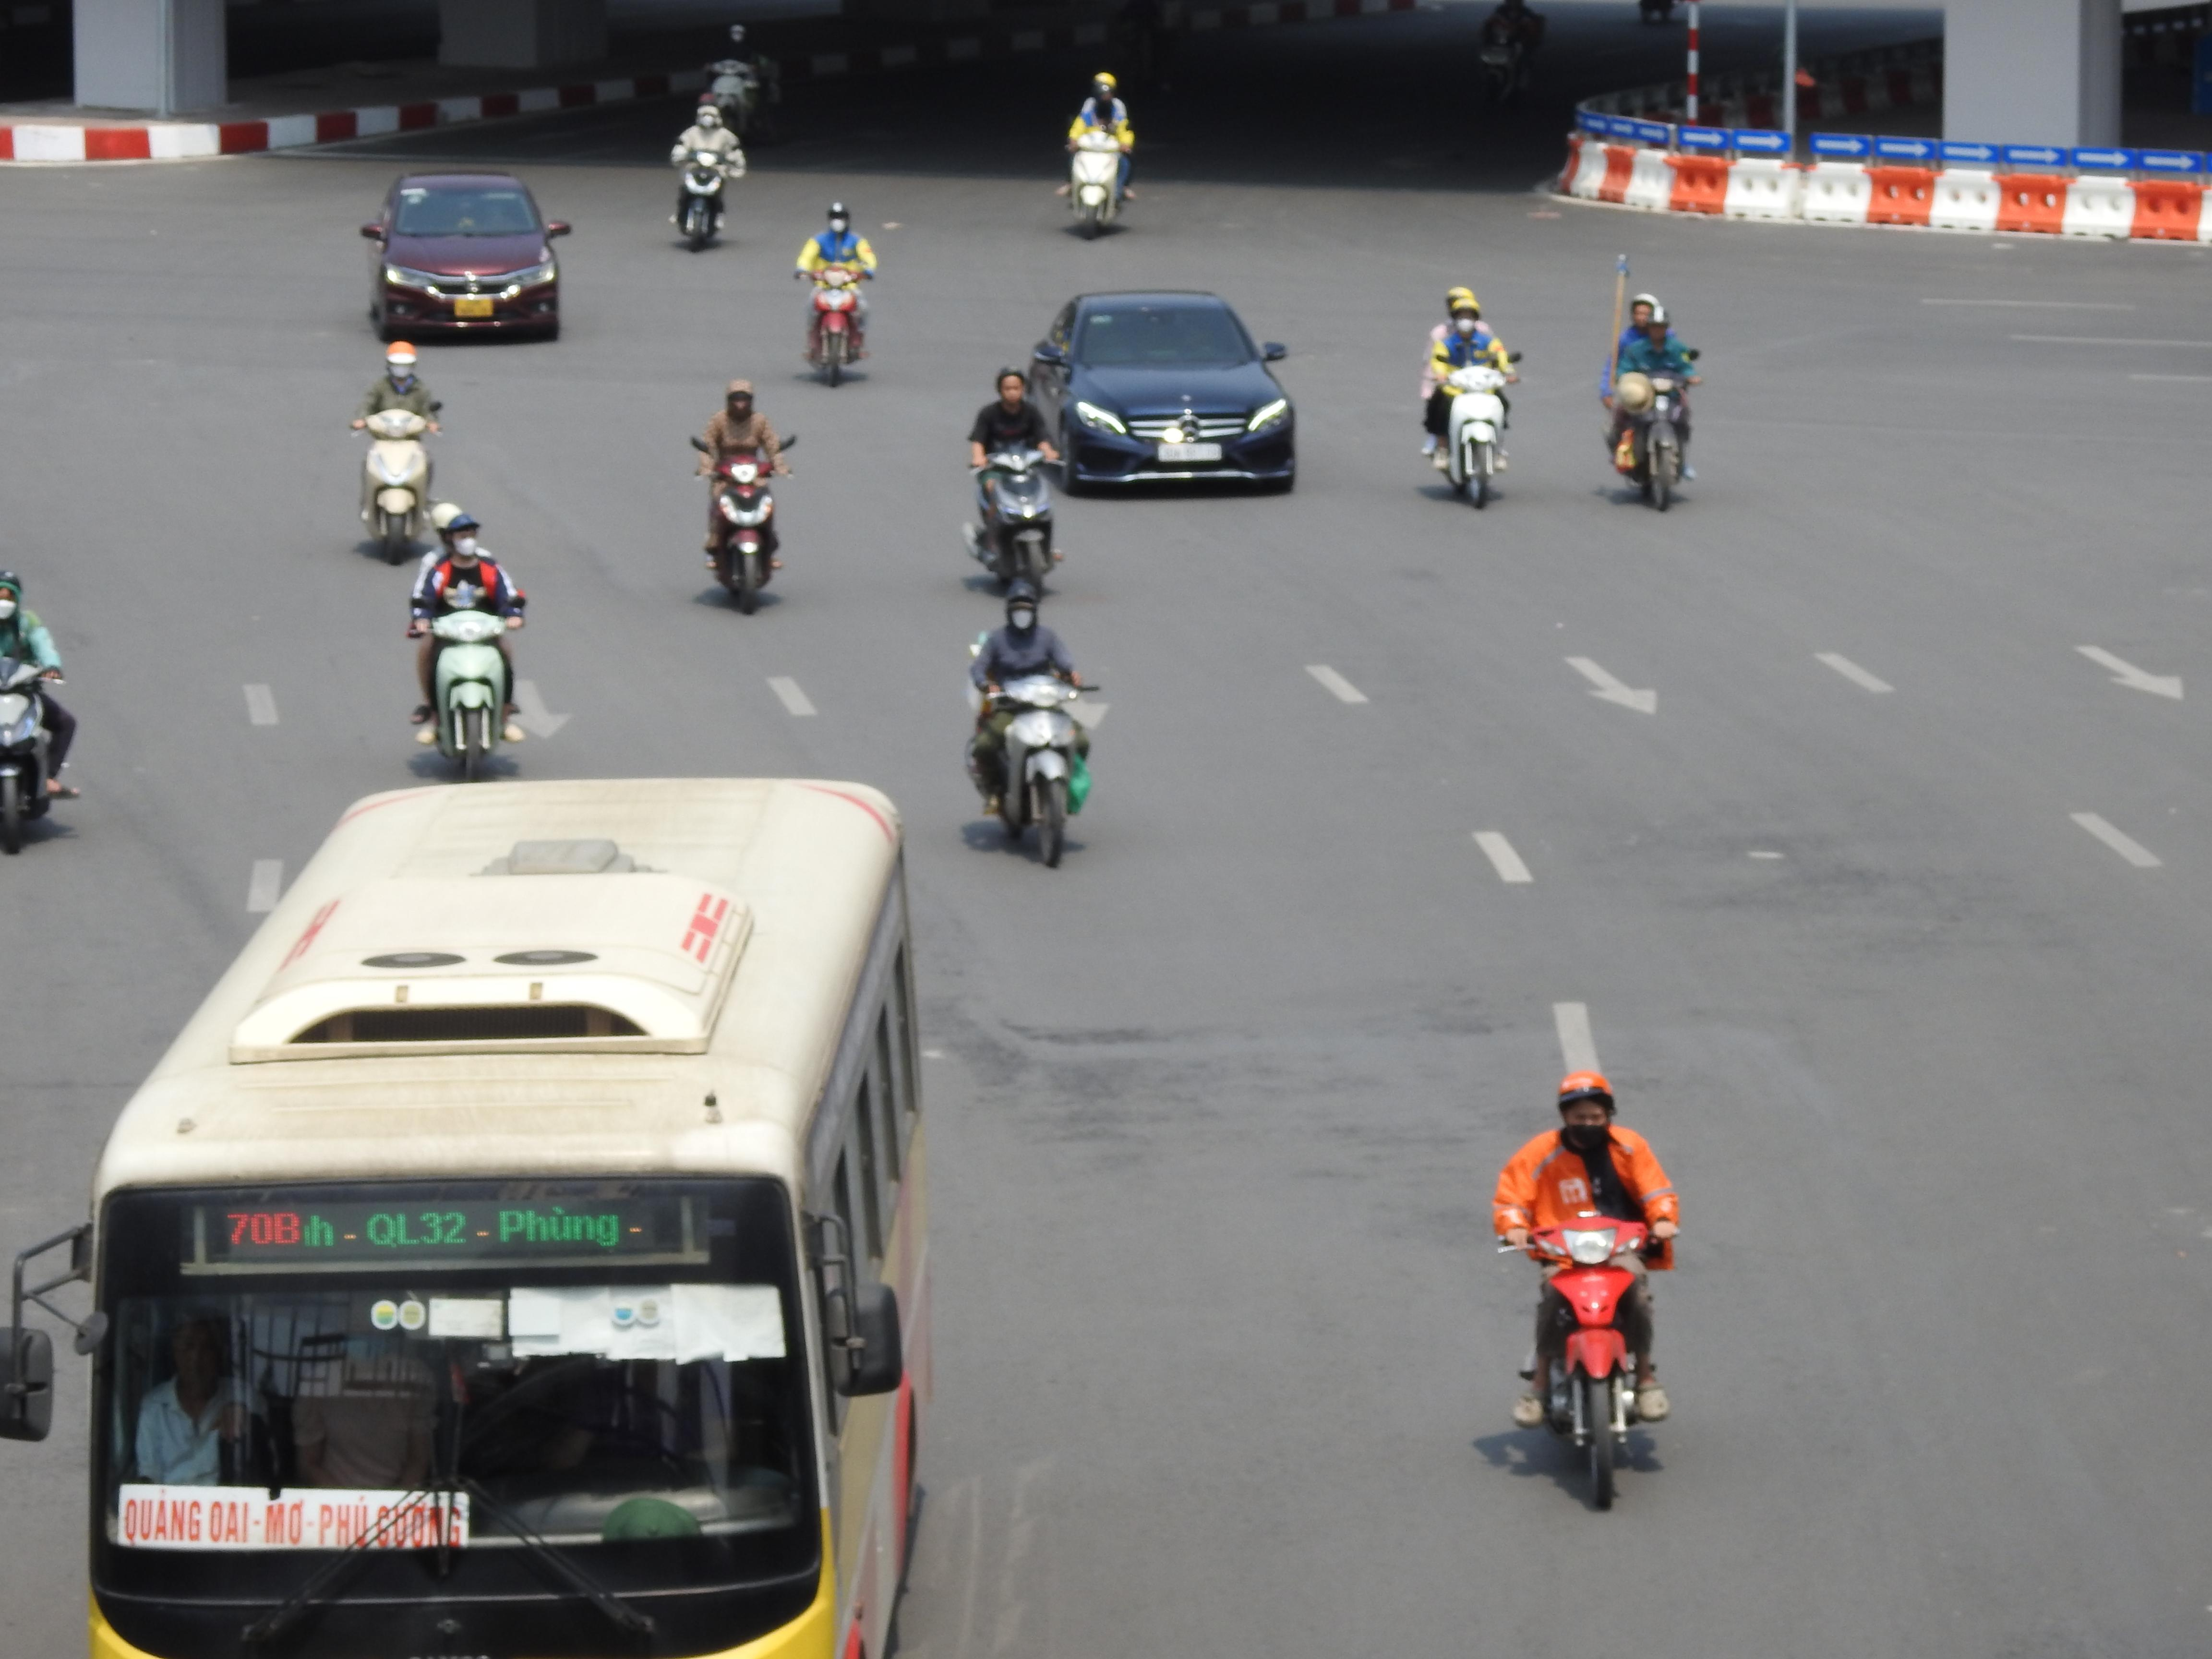bus: (2, 774, 937, 1659)
car: (1029, 291, 1298, 497), (361, 173, 573, 347)
motorbike: (1496, 1068, 1676, 1513), (967, 587, 1099, 870), (409, 507, 526, 781), (693, 378, 792, 615), (967, 366, 1062, 599), (0, 566, 75, 857), (1421, 288, 1519, 511), (1602, 293, 1700, 512), (352, 343, 442, 565), (798, 200, 874, 387), (1062, 73, 1136, 239), (671, 99, 740, 253)
